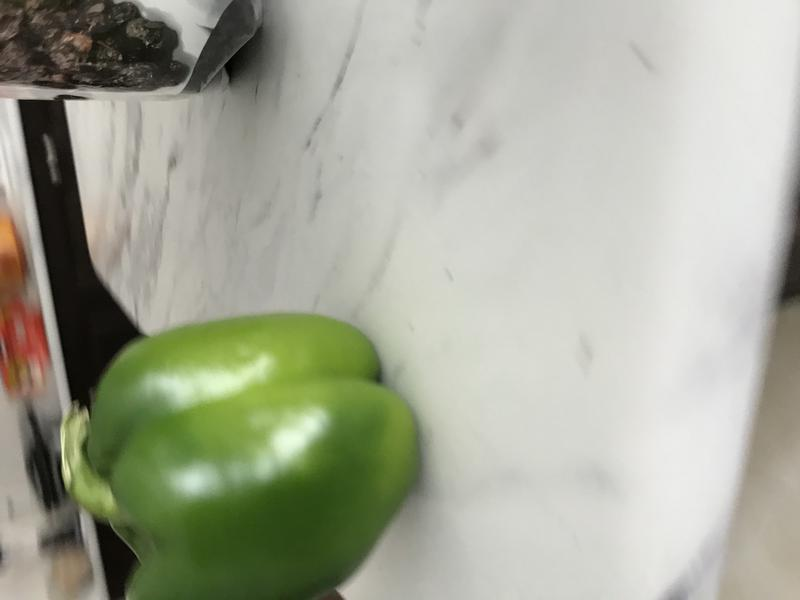green_pepper: (44, 303, 438, 600)
